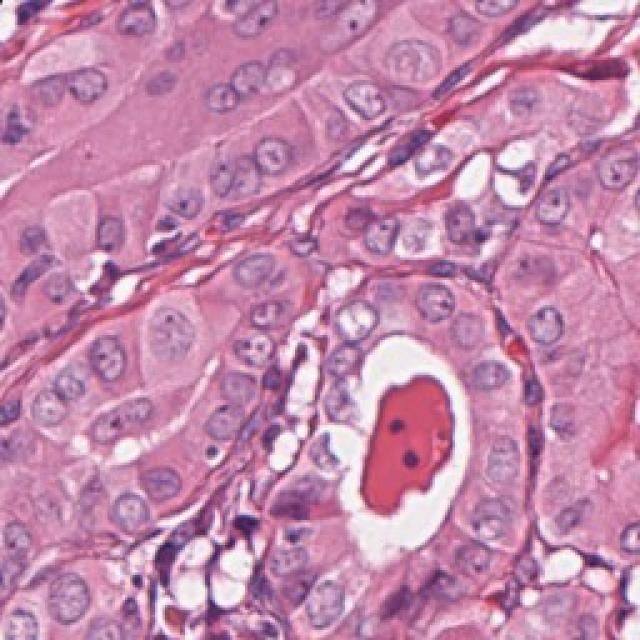abnormal: (128, 156, 240, 244), (231, 116, 325, 210), (206, 285, 286, 382), (318, 43, 394, 143), (133, 296, 228, 376), (115, 440, 201, 524), (314, 291, 404, 370), (303, 565, 395, 640), (460, 433, 552, 504), (191, 134, 265, 222), (86, 374, 164, 451), (84, 326, 156, 402), (370, 28, 453, 93), (89, 0, 181, 58), (33, 552, 111, 618), (83, 464, 154, 536), (438, 288, 503, 364), (506, 289, 578, 357), (218, 245, 304, 300), (526, 155, 589, 229), (62, 52, 123, 128), (301, 334, 376, 395), (39, 358, 99, 432), (393, 276, 466, 336), (189, 387, 248, 454), (584, 129, 637, 201), (441, 532, 509, 584), (533, 489, 591, 547), (466, 497, 523, 555), (233, 45, 280, 115), (461, 345, 508, 412)
